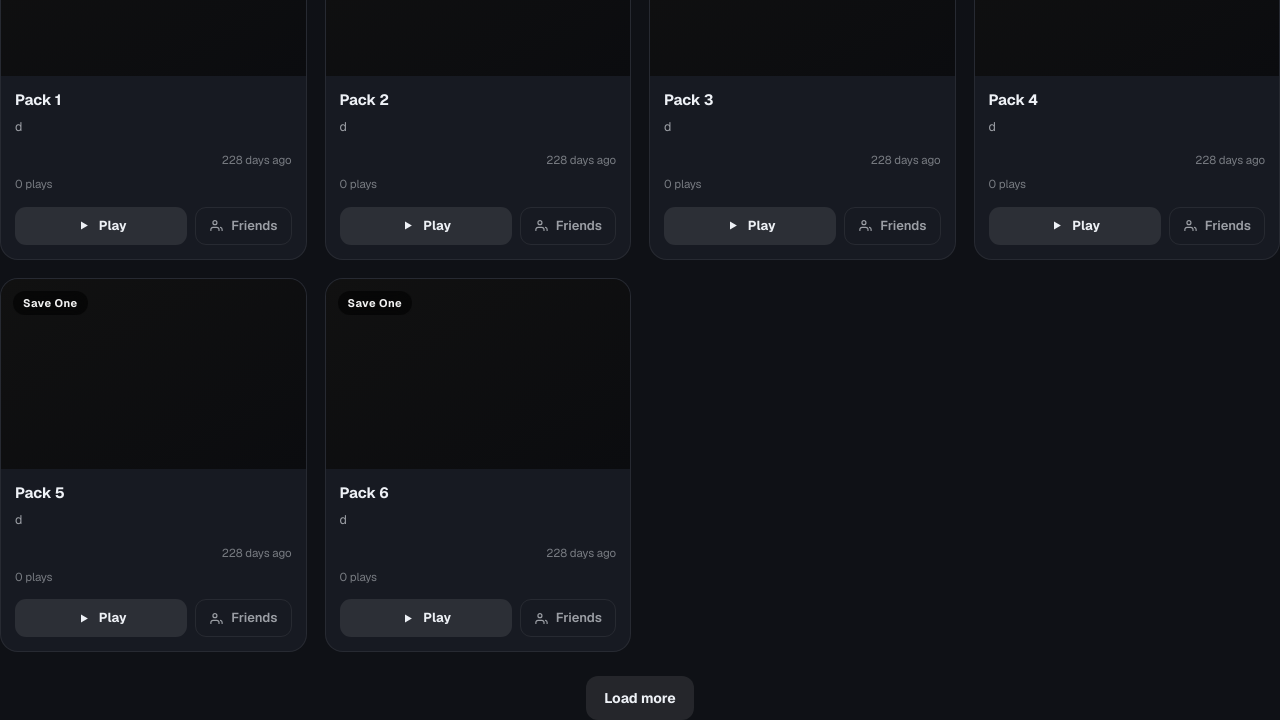
Test: AuthorPackList › appends the next page of packs when Load more is clicked
(page scrolled)
Expected: the heading "Pack 1" is shown, [15, 90, 61, 109]
What coordinates should you click on to do the following:
click the button "Load more"
I would click on:
 (640, 698)
Its box is [586, 676, 694, 719].
(page scrolled)
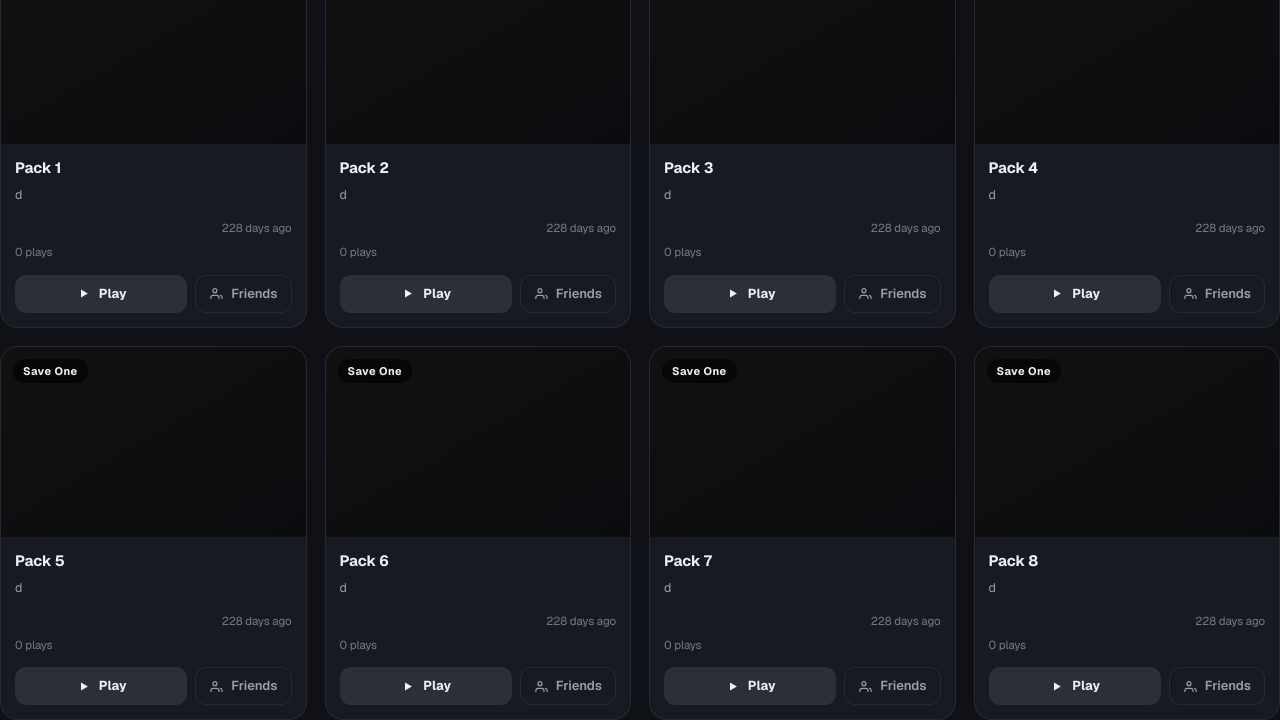
Result: the heading "Pack 7" is shown at [664, 551, 712, 570]
Result: the heading "Pack 8" is shown at [988, 551, 1038, 570]
Result: the button "Load more" is gone
